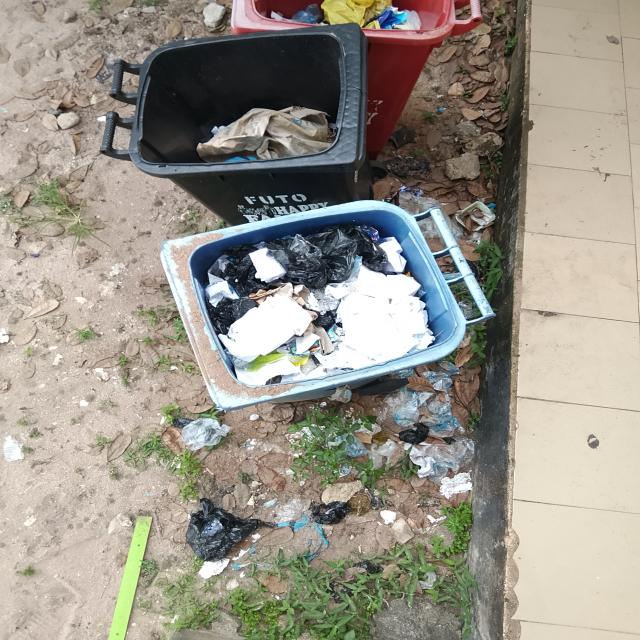full: (161, 199, 464, 408), (213, 0, 473, 47)
half-full: (134, 33, 368, 174)
